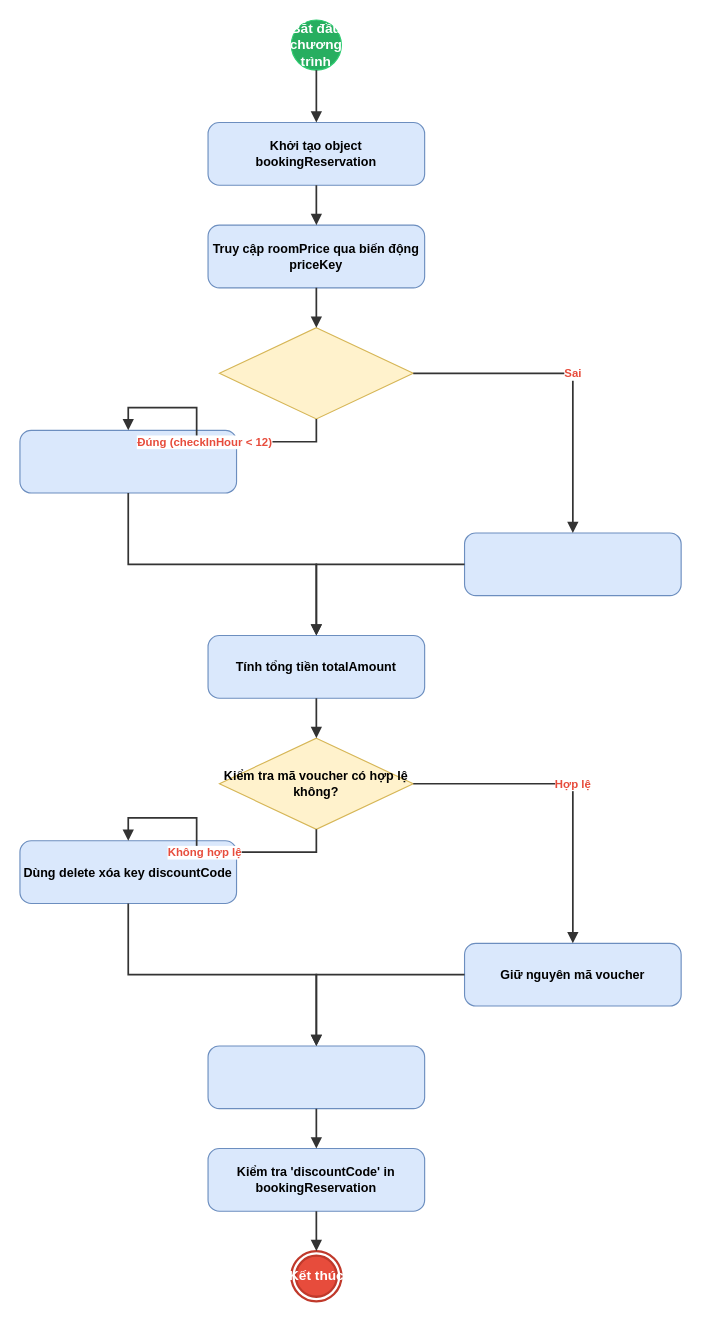
Image size: 701x1322. Some labels were removed from this diagram. The shapes that lost their labels are listed below. From the top down, each one's centre as x and y in pixels, then its label:
pixel 315 373: Kiểm tra giờ check-in < 12?
pixel 128 461: Tính phí phụ thu check-in sớm
pixel 572 564: Bỏ qua phụ thu
pixel 316 1077: Duyệt for...in với bookingReservation[key]
